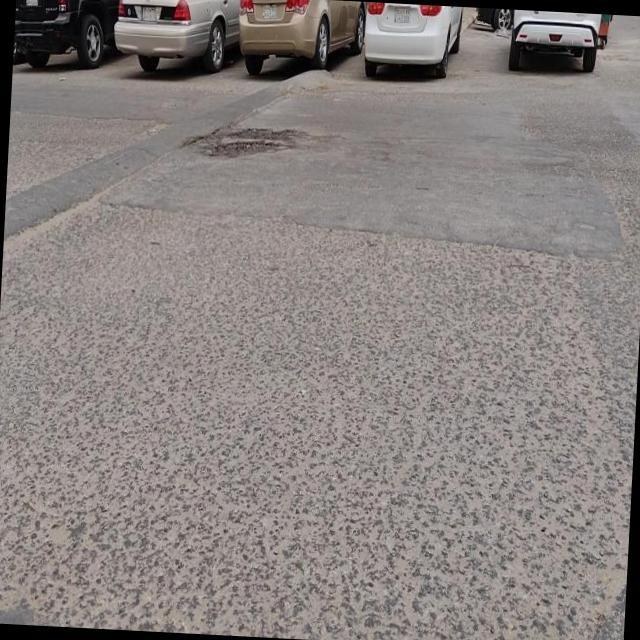Pothole: (194, 127, 296, 161)
